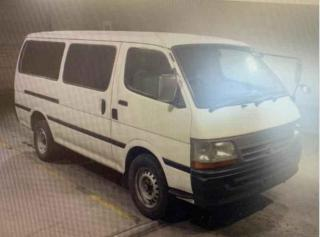Van: (14, 31, 306, 215)
